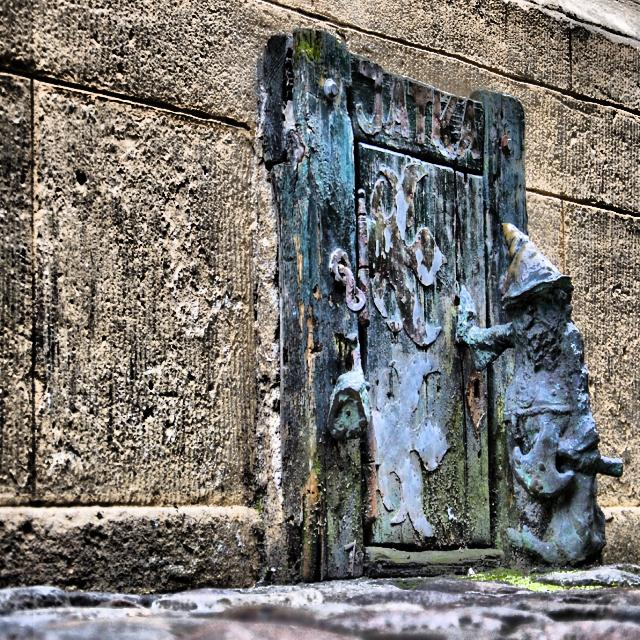Rzeznik: (458, 224, 622, 565)
